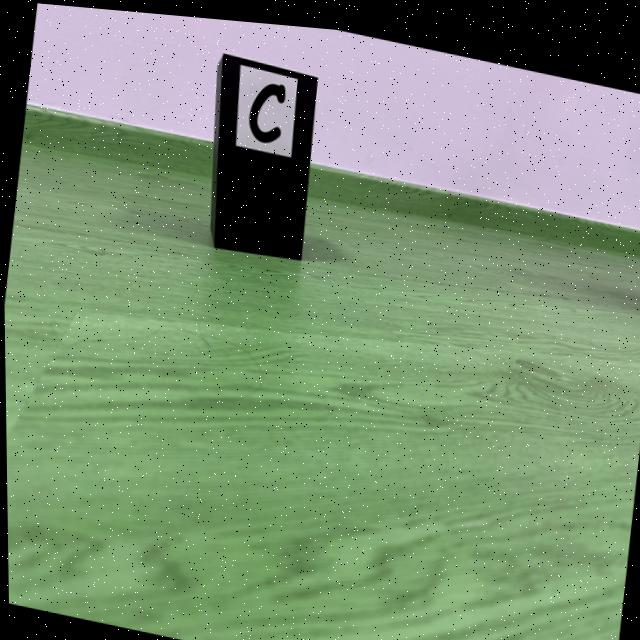C: (248, 78, 285, 138)
